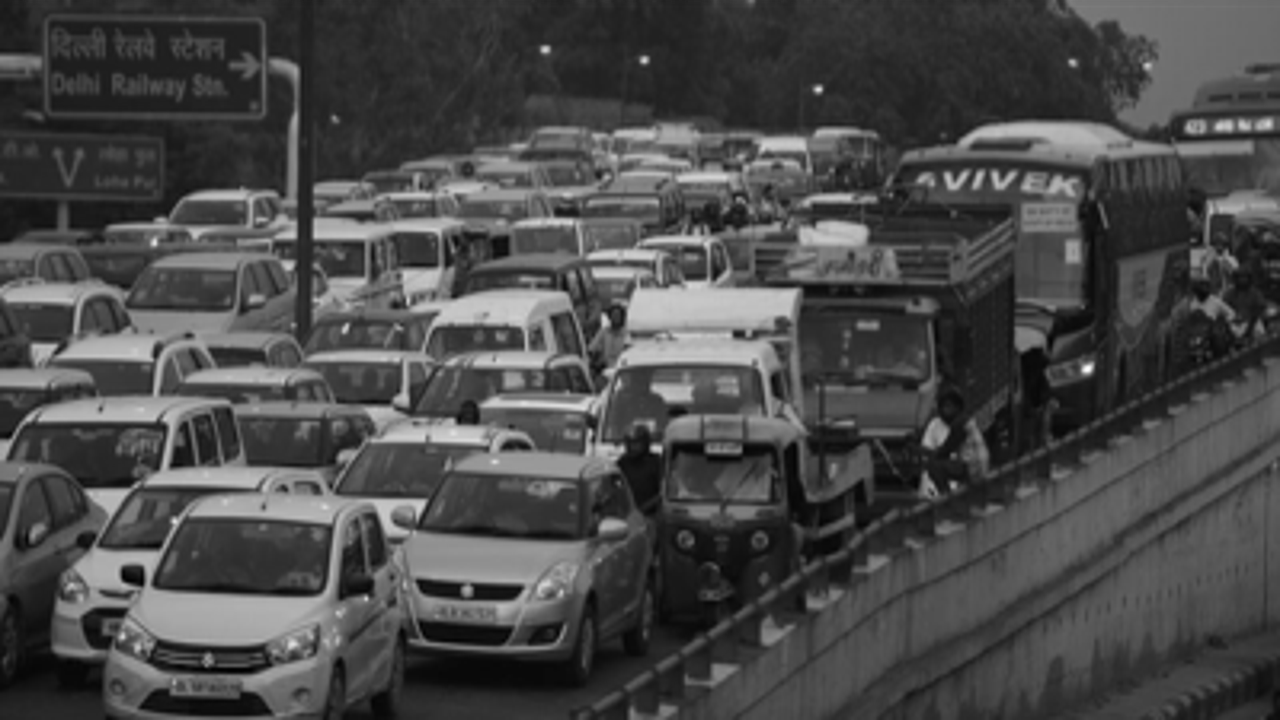license: (168, 669, 243, 710), (428, 598, 504, 627)
